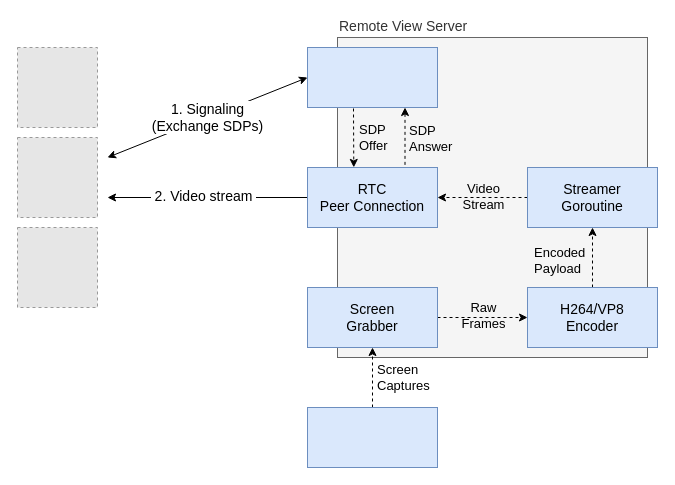
This 675x485 diagram has some shape labels left out. Grey dashed boxes stand in for pictures. The shapes that lost their labels are listed below. From the top down, each one's centre as x and y in pixels, then its label:
At point (372, 77): "POST /session".
At point (372, 437): "X Server".
